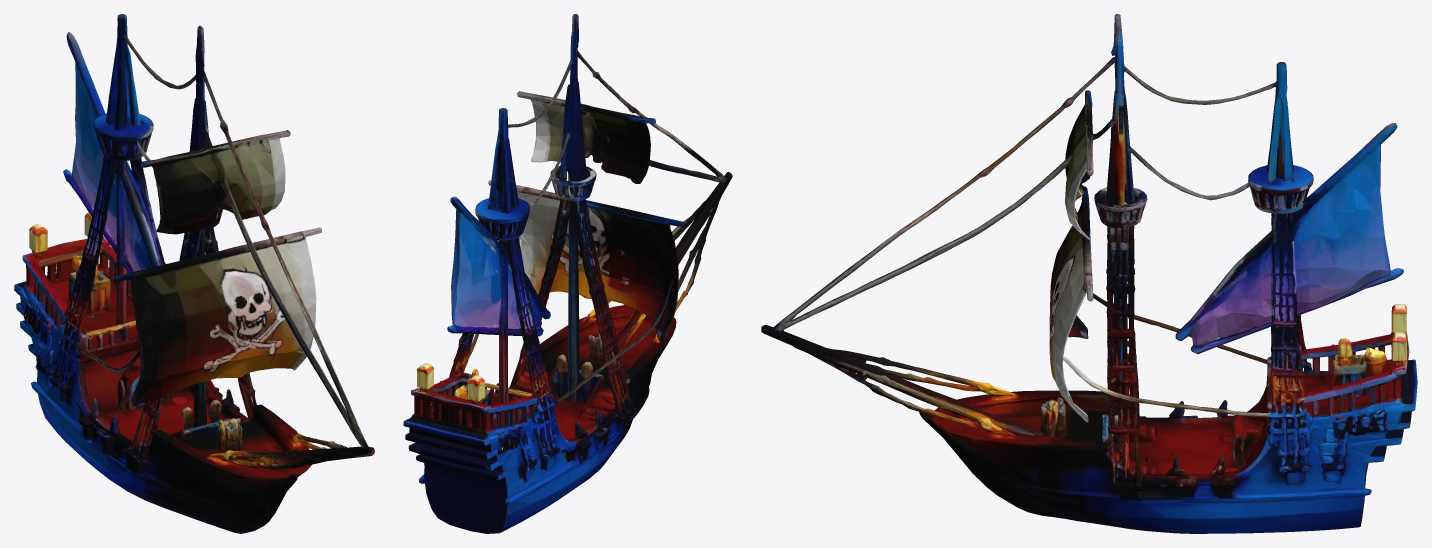
File: pirate-ship.glb
3 renders of one model, left to right at view 1: azimuth 30°, elevation 25°; view 2: azimuth 150°, elevation 25°; view 3: azimuth 270°, elevation 25°, orthographic. The views are drawn at different scales.
Parts seen in each view (by area): view 1: tripo_node_25561725-9fdd-432a-9e3b-64cfb3166917; view 2: tripo_node_25561725-9fdd-432a-9e3b-64cfb3166917; view 3: tripo_node_25561725-9fdd-432a-9e3b-64cfb3166917.
Part boxes in pixels (x1,y1,x2,y2): tripo_node_25561725-9fdd-432a-9e3b-64cfb3166917: (14, 14, 374, 533); tripo_node_25561725-9fdd-432a-9e3b-64cfb3166917: (403, 14, 732, 533); tripo_node_25561725-9fdd-432a-9e3b-64cfb3166917: (761, 14, 1417, 533).
Size of the model in its own units: 5.41 by 11.8 by 14.
Materials: 1 (1 with a texture image).
